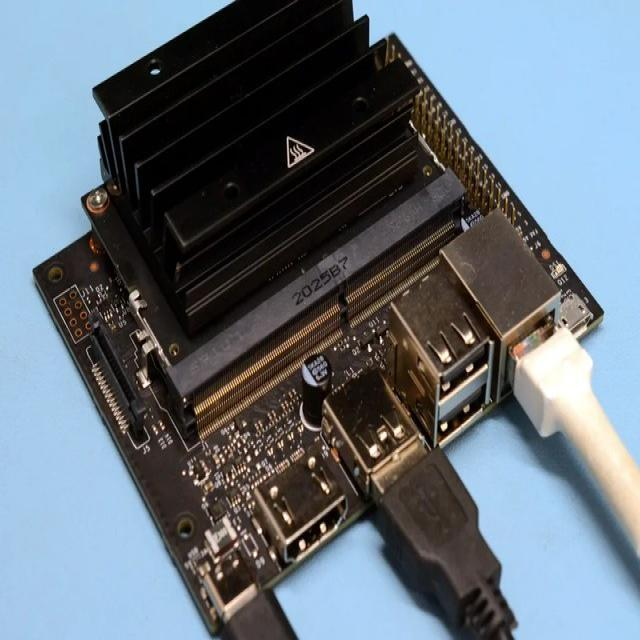Jetson Nano: (31, 1, 606, 636)
